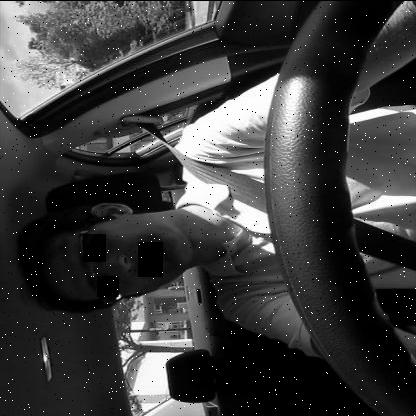seatbelt: (4, 104, 416, 326)
